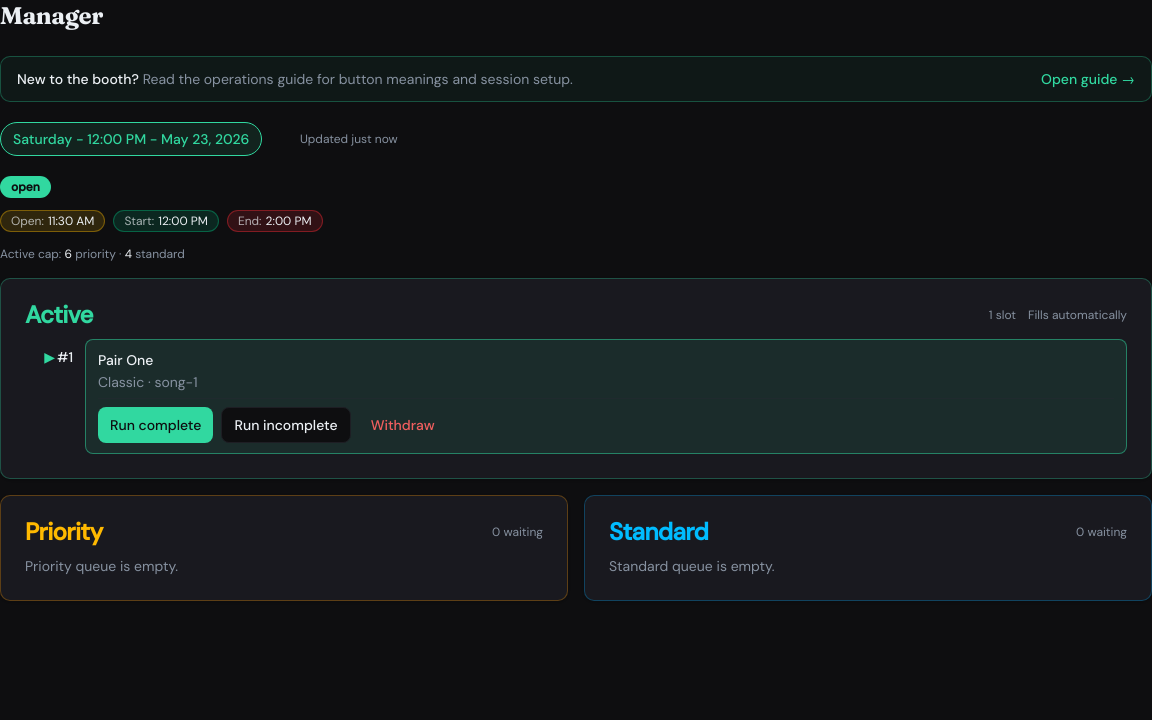
Test case: ManagerPage — Active Sessions › asks before withdrawing, and withdraws only once confirmed
This screenshot has width=1152, height=720.
Expected: the text "Pair One" is shown, [98, 351, 153, 369]
What coordinates should you click on to do the following:
click the button "Withdraw"
I would click on:
 (403, 425)
Its box is [359, 407, 447, 443].
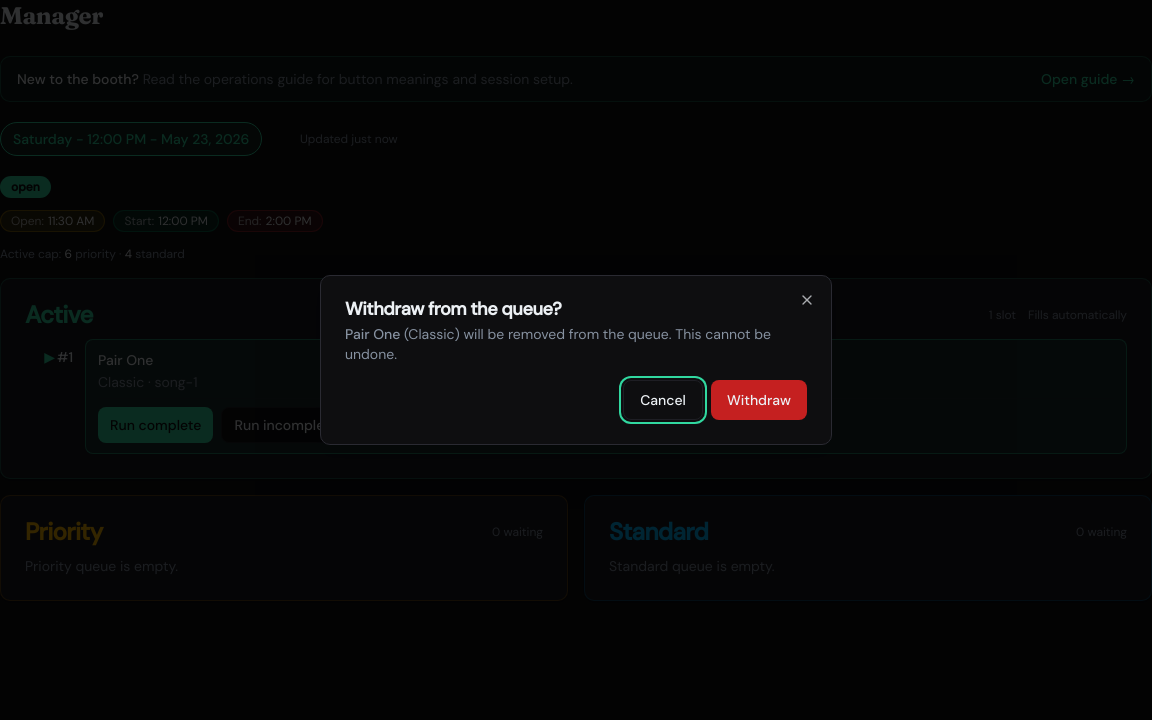
Result: the dialog "Withdraw from the queue" shows "Pair One (Classic) will be removed from the queue" at [320, 275, 832, 445]
What coordinates should you click on to do the following:
click the button "Cancel"
I would click on:
 (663, 400)
Its box is [623, 380, 703, 420].
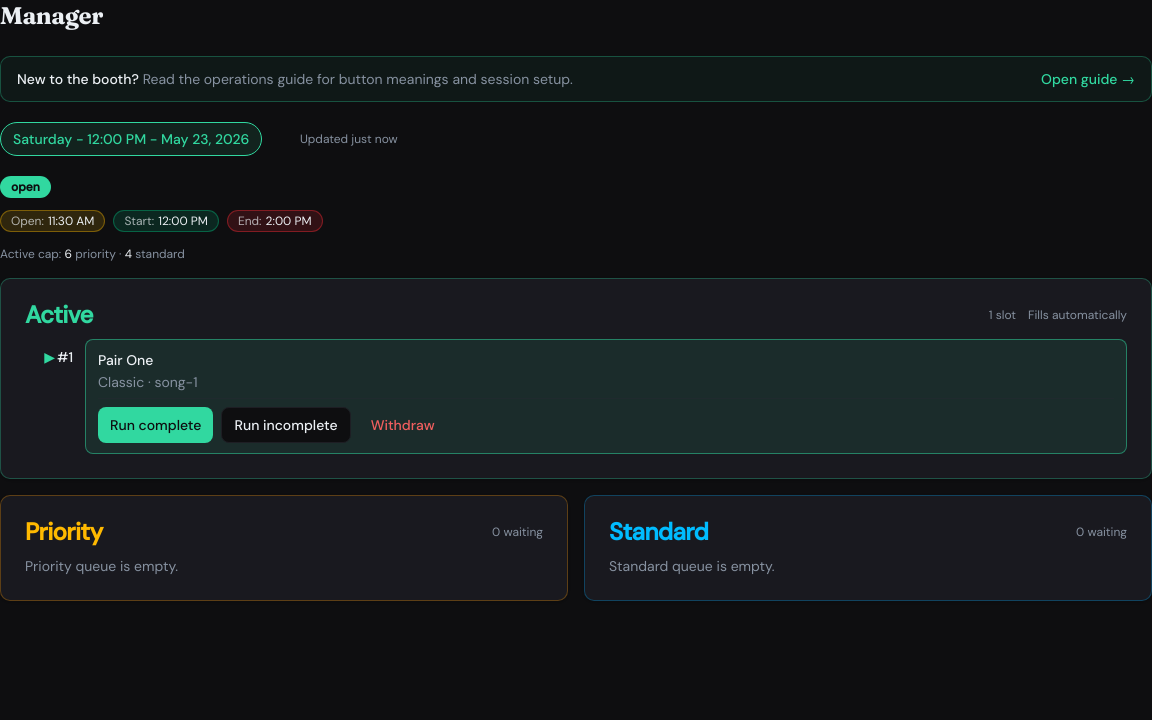
Result: the dialog is gone
What coordinates should you click on to do the following:
click the button "Withdraw"
I would click on:
 (403, 425)
Its box is [359, 407, 447, 443].
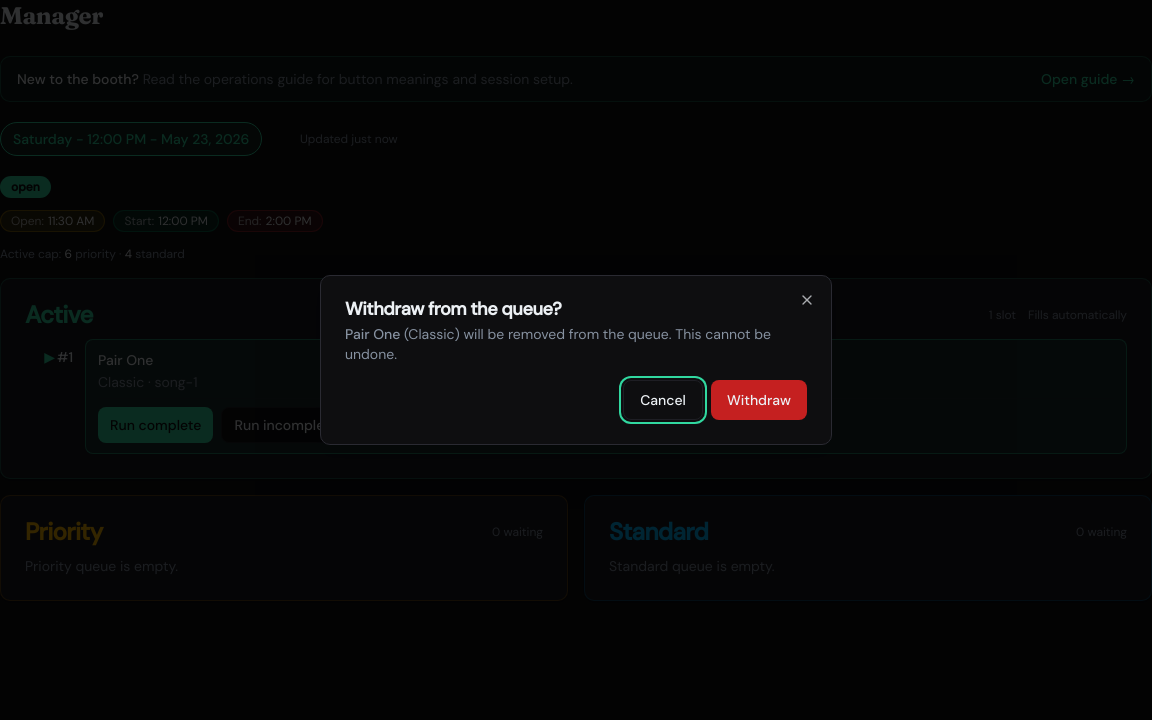
What coordinates should you click on to do the following:
click the button "Withdraw"
I would click on:
 (759, 400)
Its box is [711, 380, 807, 420].
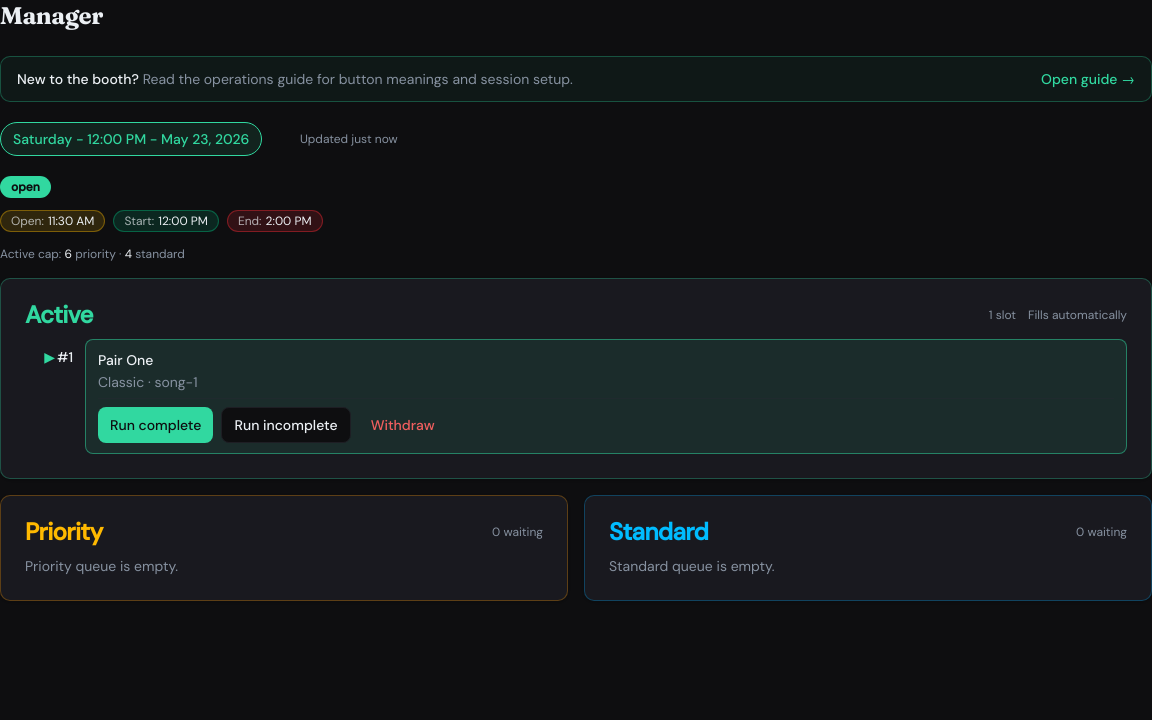
Result: the dialog is gone
